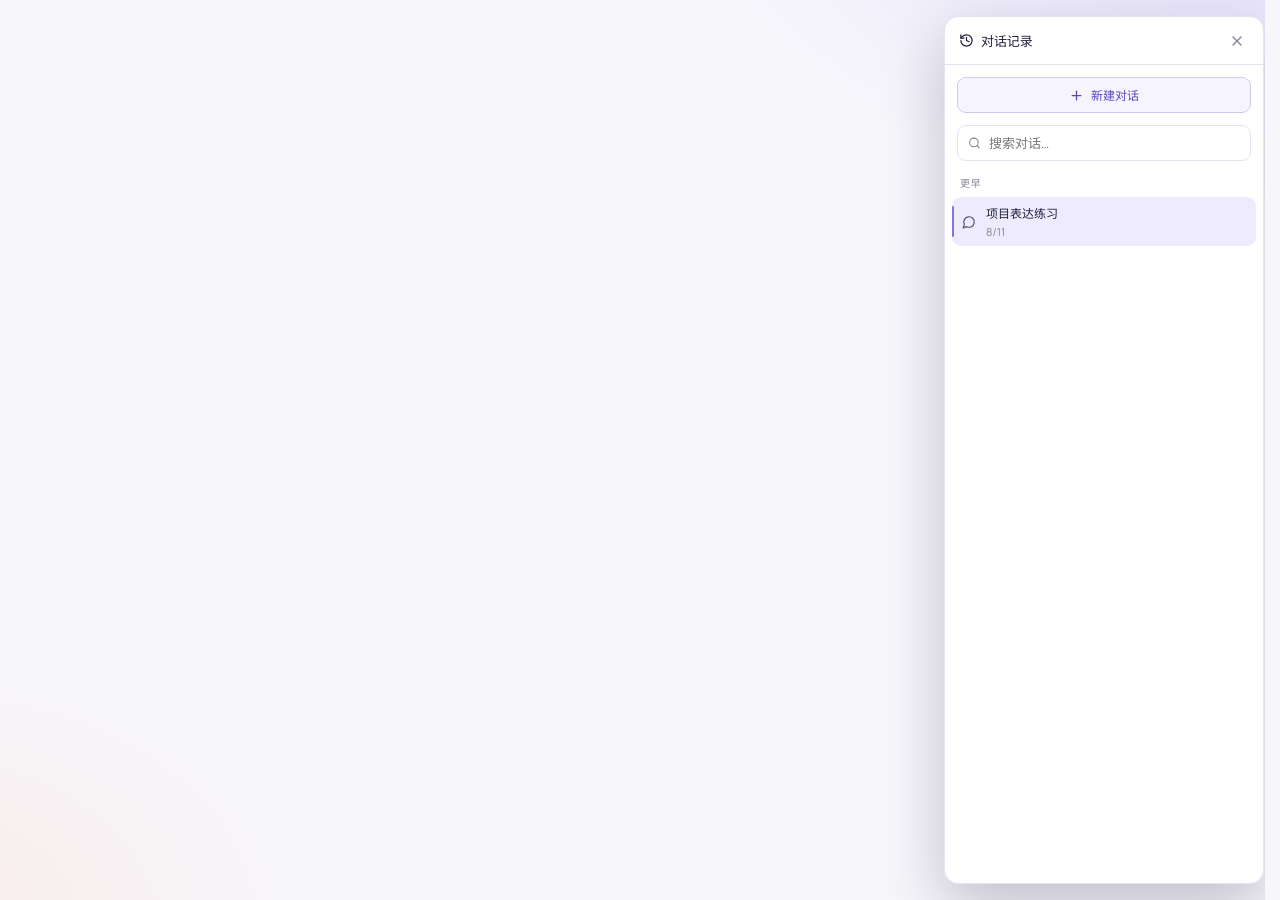
Scenario: ConversationHistoryPanel › shows conversations matched by message text from the server
The image size is (1280, 900).
Type "方案细节" into the search field named "搜索对话标题、摘要或正文" at (1114,143), box 989,134 -> 1240,152
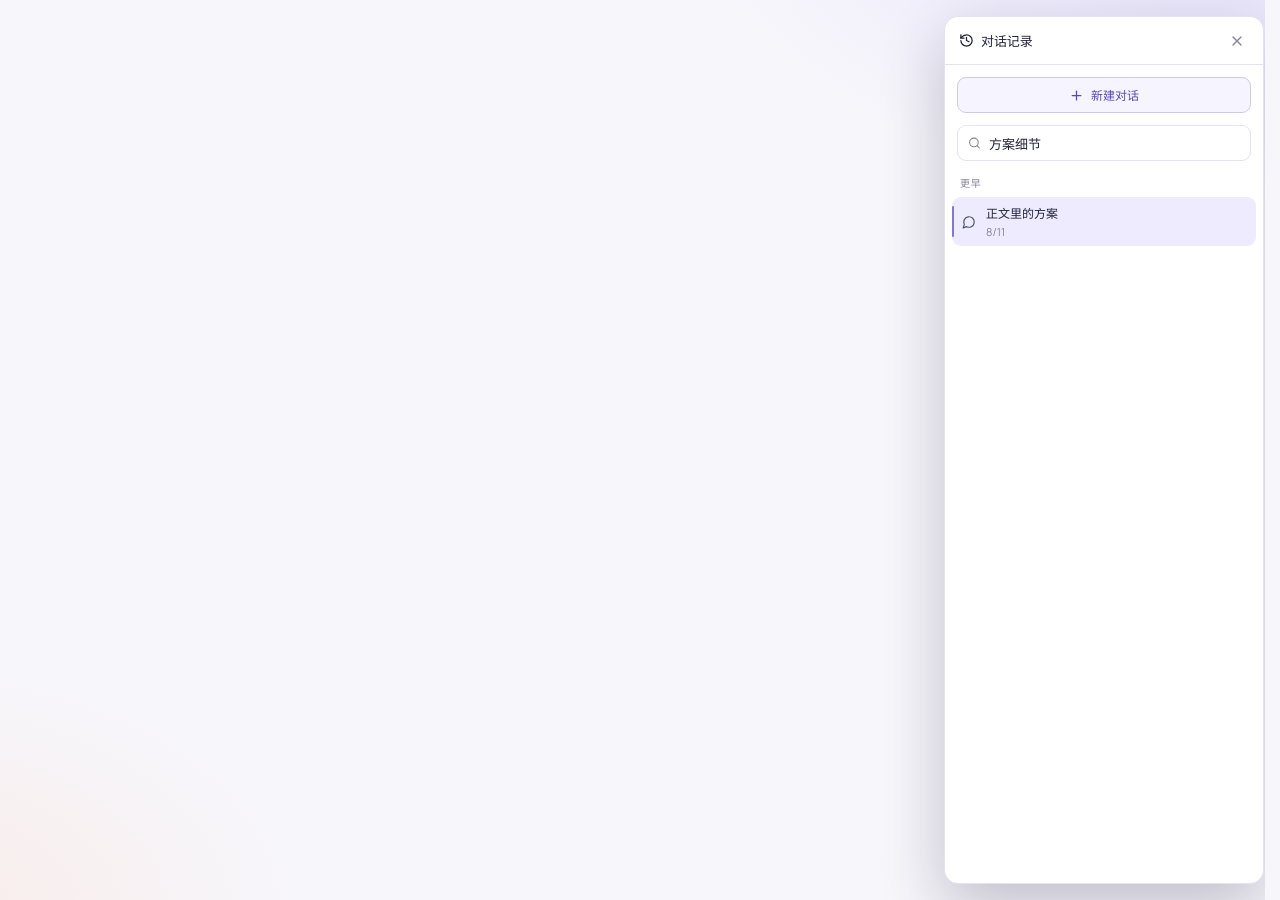
Expected: the button titled "正文里的方案" is shown, 952,197 -> 1224,246
